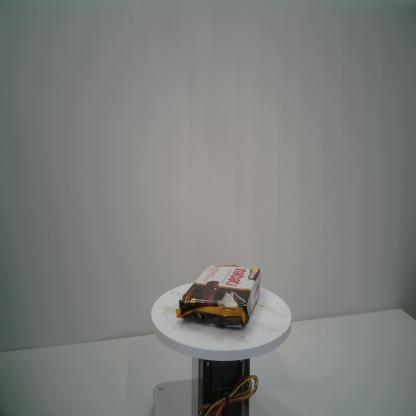Dessert: (173, 260, 262, 330)
